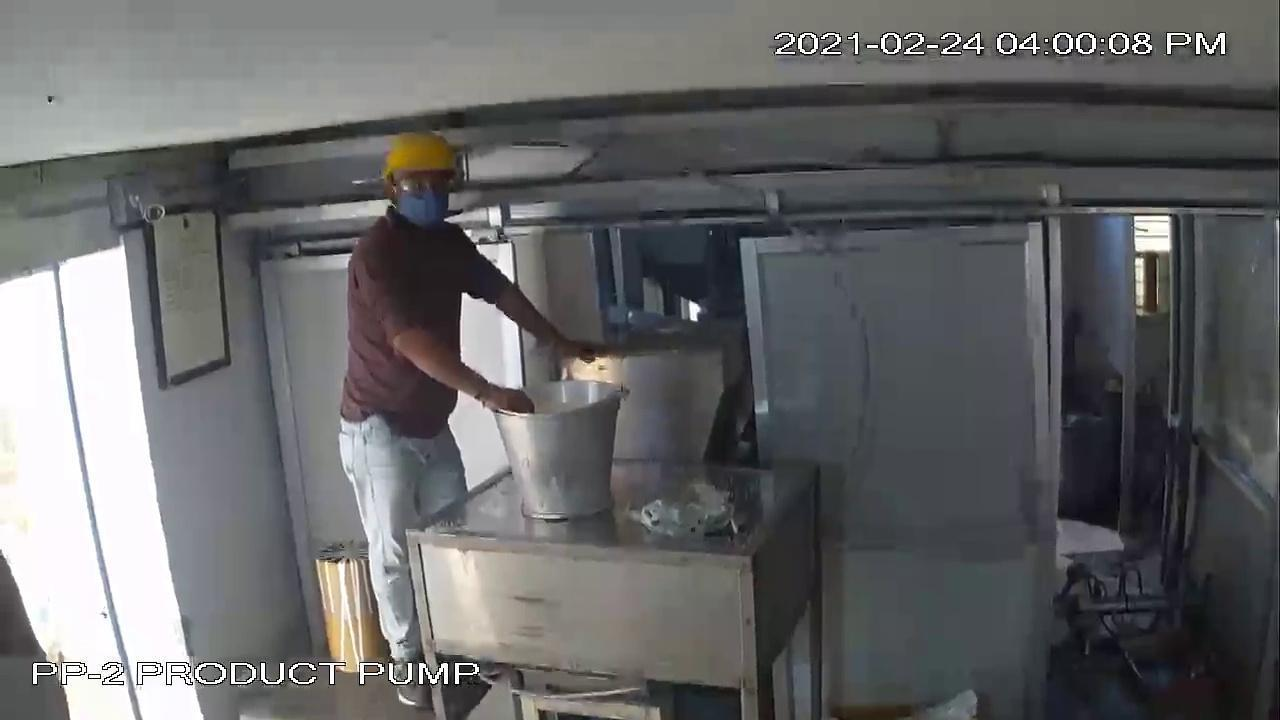helmet: (368, 123, 466, 198)
